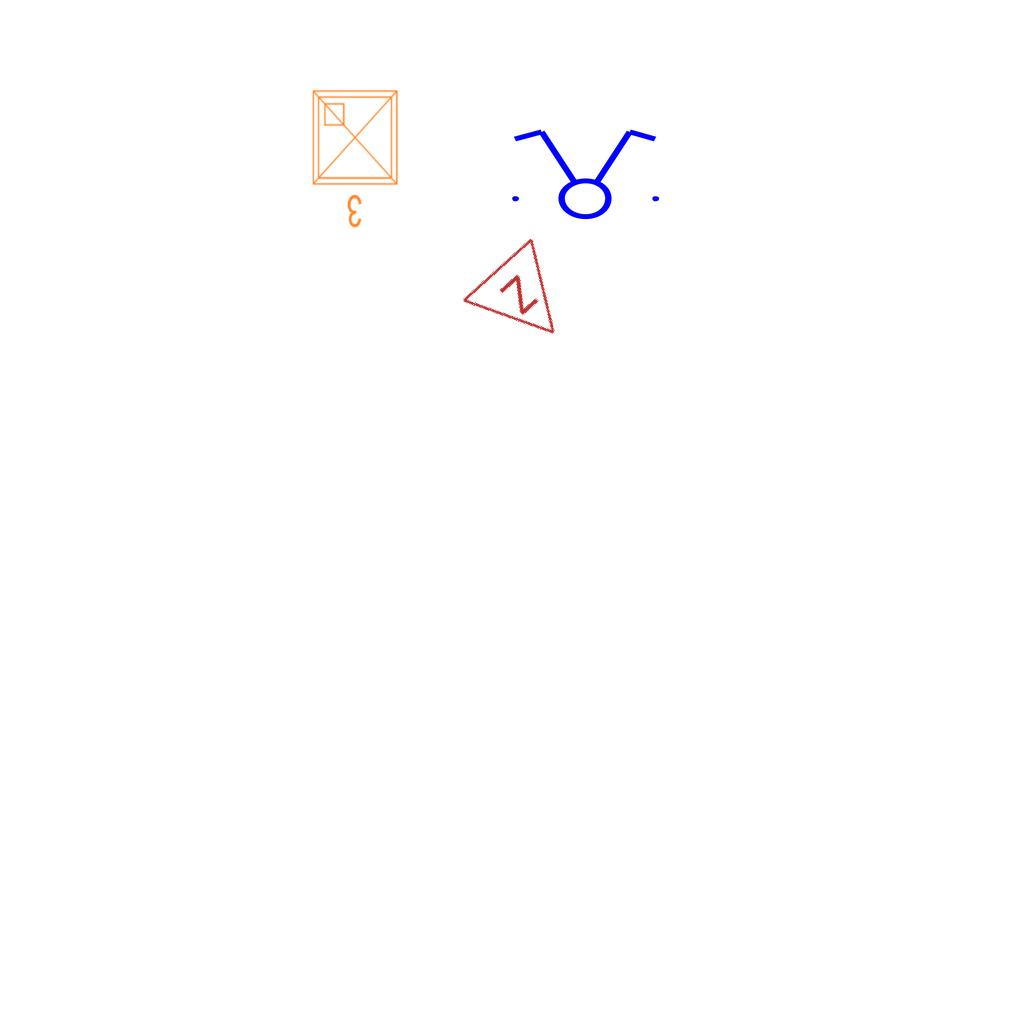Einbaudownlights_LED_Konferenzraeume: (305, 83, 409, 233)
Serienschalter: (500, 125, 668, 221)
Zimmersignalleuchte: (456, 230, 596, 370)
